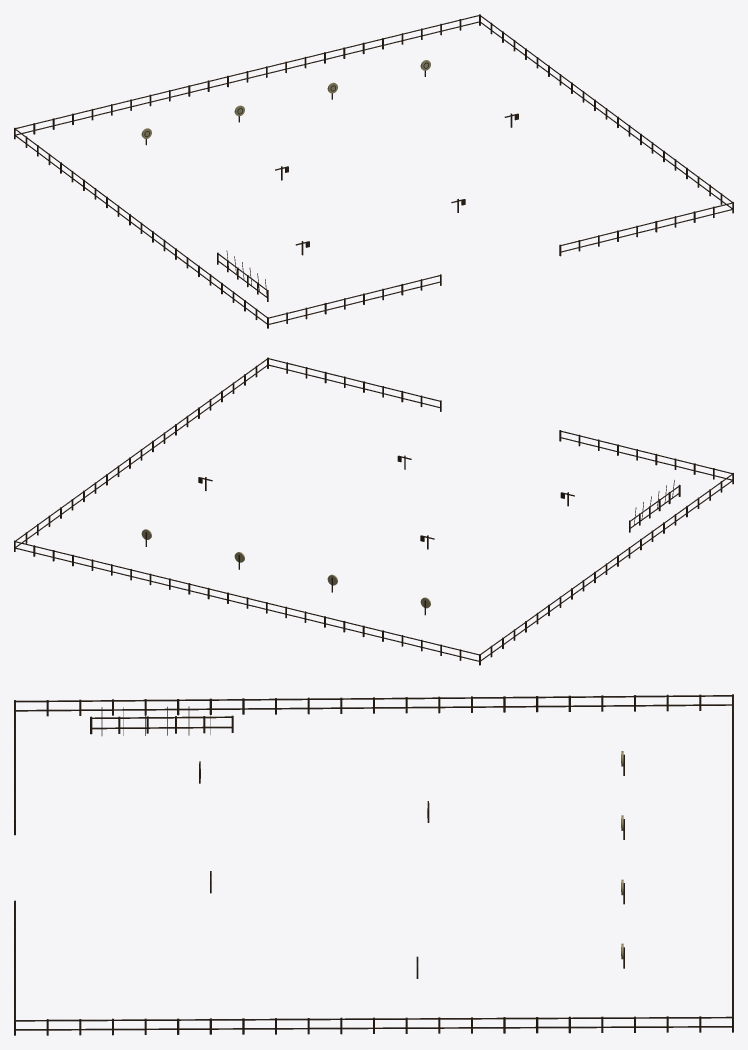
File: training_yard.glb
3 views of the same model, one above another, from view 1: azimuth 30°, elevation 25°; view 2: azimuth 150°, elevation 25°; view 3: azimuth 270°, elevation 25° (orthographic). The views are drawn at different scales.
Visible parts, largest first — view 1: ENV_R5_Timber; view 2: ENV_R5_Timber; view 3: ENV_R5_Timber.
Boxes of the visible parts, x1,y1,x2,y2 form: ENV_R5_Timber: [14, 14, 733, 328]; ENV_R5_Timber: [14, 357, 733, 665]; ENV_R5_Timber: [14, 694, 733, 1035].
Size of the model in its own units: 70.19 by 2.97 by 66.19.
3 materials, 2 textured.
